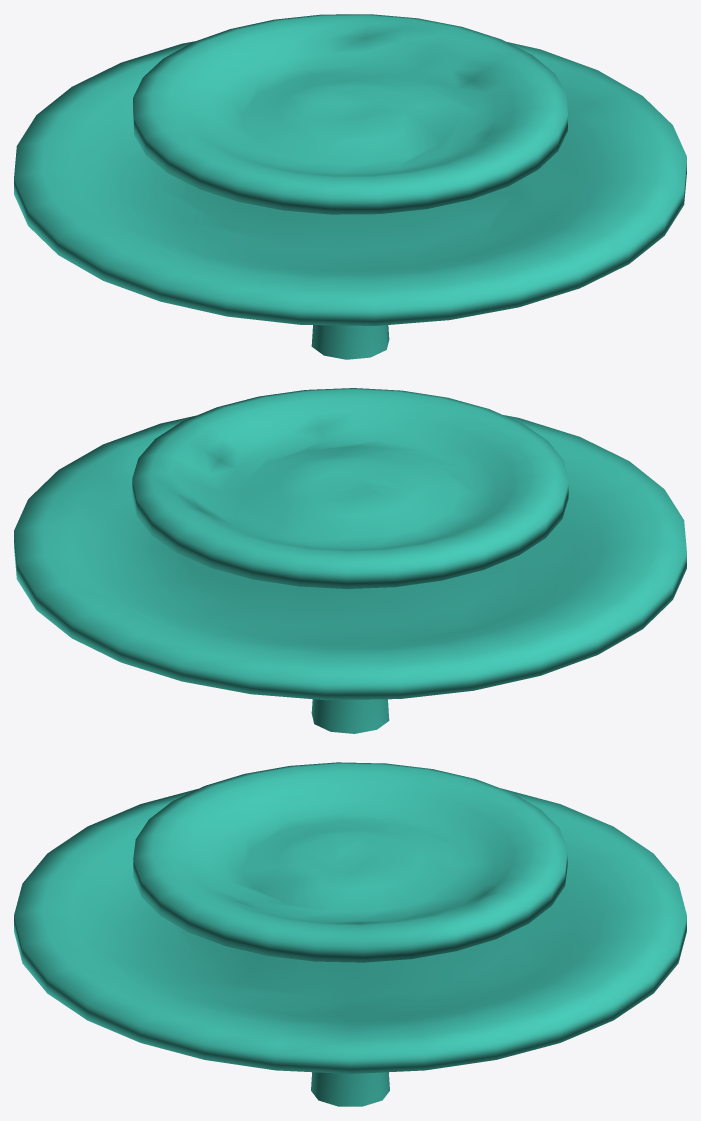
The model's file is coral_table.glb.
The picture shows the model from 3 angles, top to bottom: view 1: azimuth 30°, elevation 25°; view 2: azimuth 150°, elevation 25°; view 3: azimuth 270°, elevation 25°; orthographic projection.
Visible parts, largest first — view 1: coral_table_mesh; view 2: coral_table_mesh; view 3: coral_table_mesh.
Boxes of the visible parts, x1,y1,x2,y2 form: coral_table_mesh: (14, 14, 686, 359); coral_table_mesh: (14, 388, 686, 733); coral_table_mesh: (14, 762, 686, 1106).
Size of the model in its own units: 2.21 by 0.8783 by 2.21.
